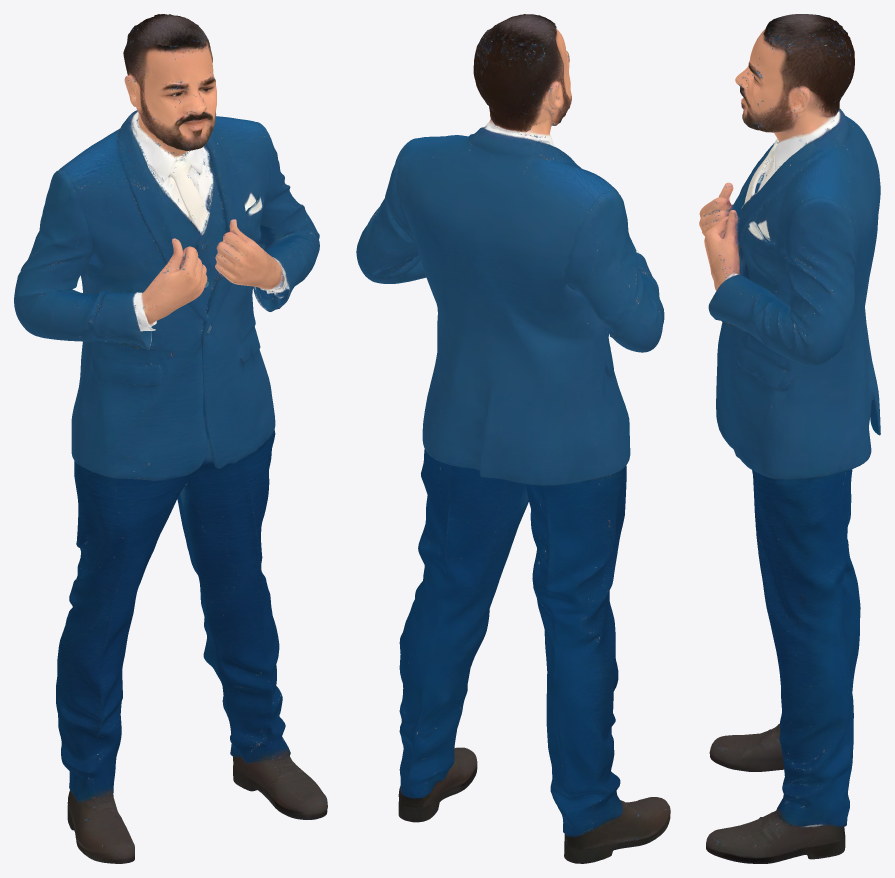
File: boneco-jonatas.min.glb
The picture shows the model from 3 angles, left to right: view 1: azimuth 30°, elevation 25°; view 2: azimuth 150°, elevation 25°; view 3: azimuth 270°, elevation 25°; orthographic projection. The views are drawn at different scales.
Visible parts, largest first — view 1: mesh_node; view 2: mesh_node; view 3: mesh_node.
Part boxes in pixels (x1=…): mesh_node: x1=14, y1=14, x2=327, y2=863; mesh_node: x1=356, y1=14, x2=670, y2=863; mesh_node: x1=699, y1=14, x2=880, y2=863.
Size of the model in its own units: 0.736 by 1.9 by 0.3967.
1 material, 1 textured.
